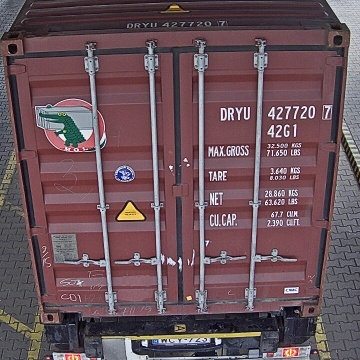serial_id: (220, 104, 332, 120)
